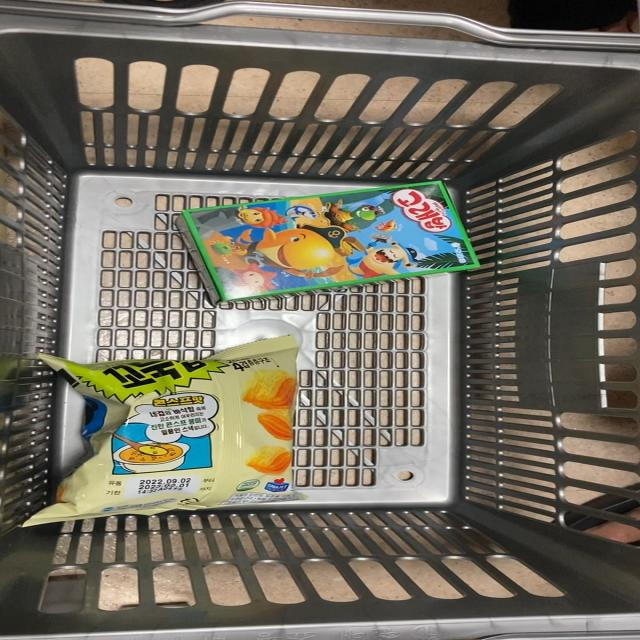ggobukchip: (42, 332, 319, 528)
goraebob: (177, 176, 477, 302)
